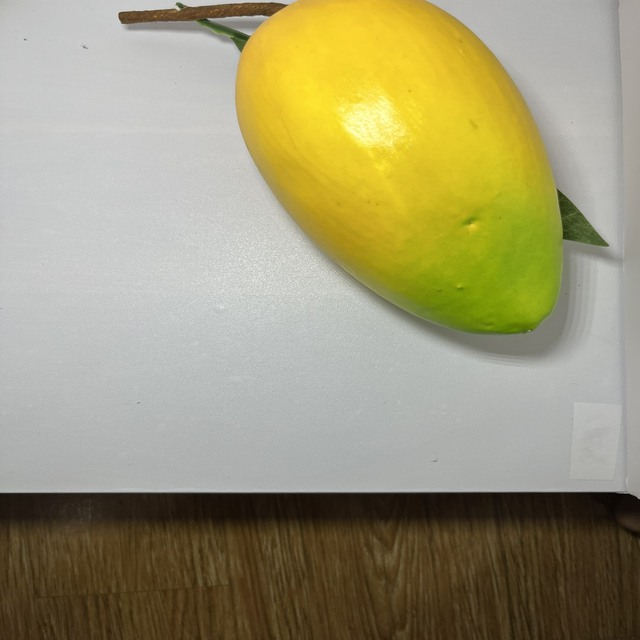Xoai: (227, 0, 570, 341)
